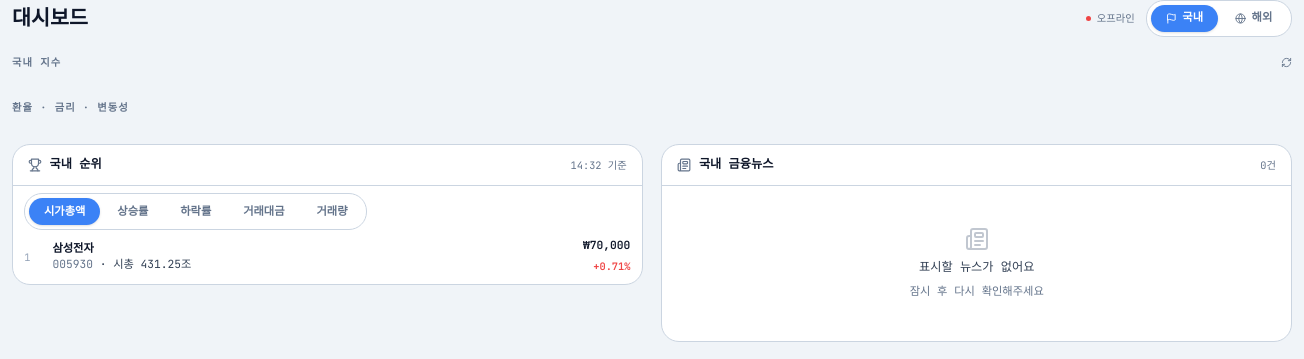
Scenario: 순위 카드 › 탭을 바꾸면 그 탭의 값을 적는다
Check: the text "· 시총 431.25조" is shown, box [93,257,192,271]
Click the tab "거래대금" at (264, 212), box [228,198,300,225]
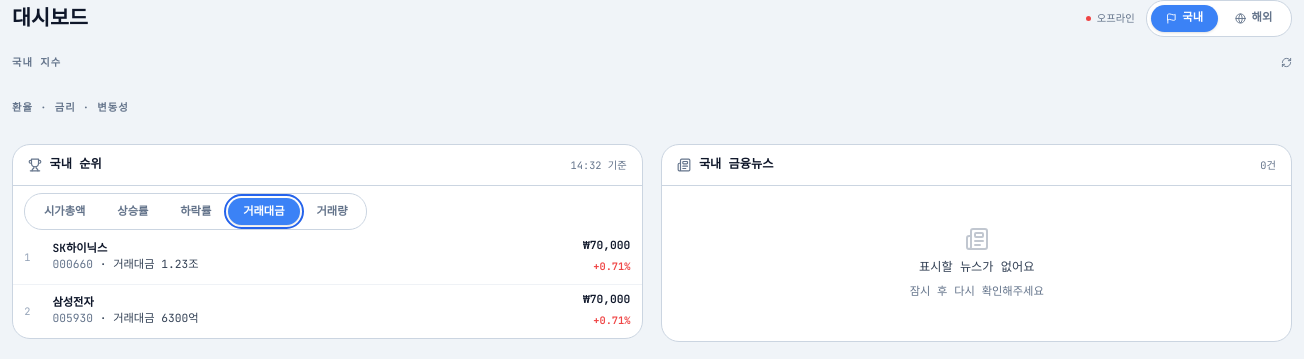
Check: the text "· 거래대금 1.23조" is shown, box [93,257,199,271]
Check: the button "시총 " is gone
